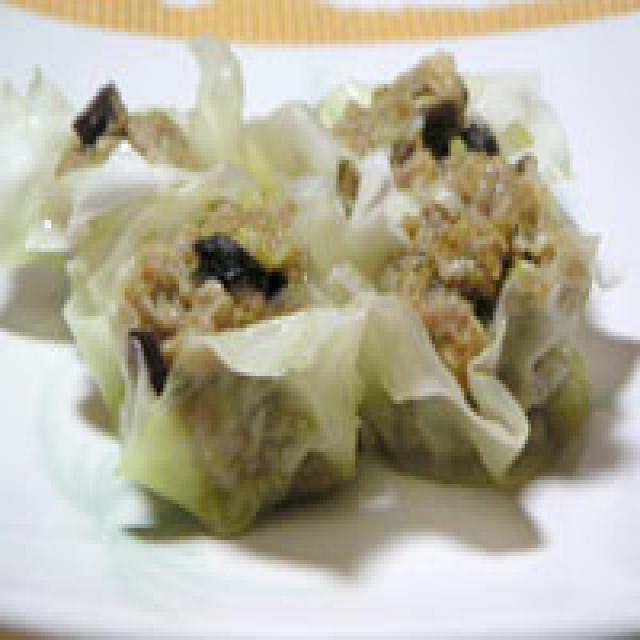带馅早点: (0, 48, 640, 572)
